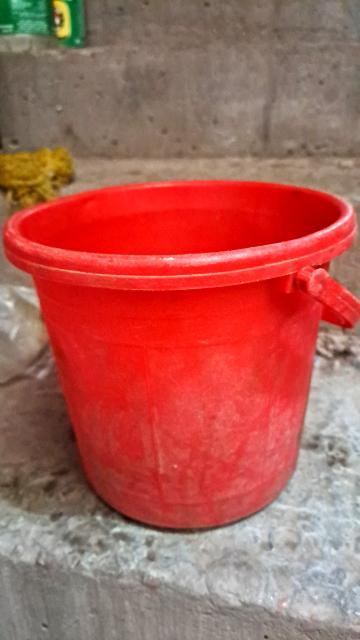hardplastic: (24, 197, 356, 537)
